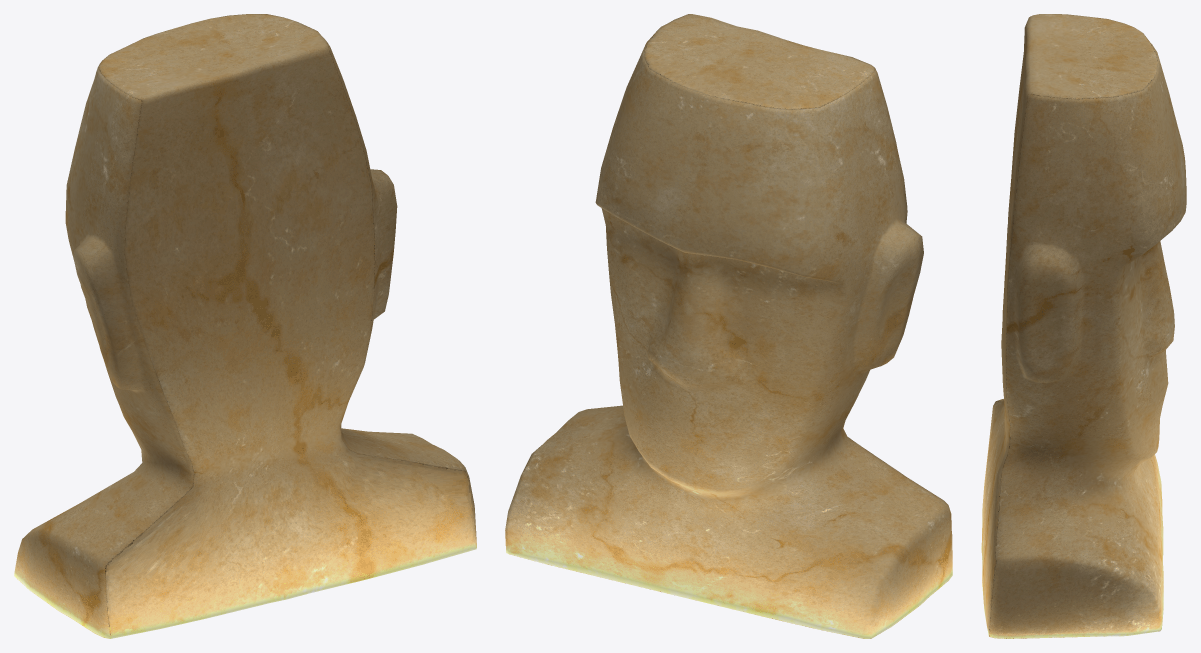
Rendered from Statute3 (3.7,  -6.29943, 1.2).glb.
3 renders of one model, left to right at view 1: azimuth 30°, elevation 25°; view 2: azimuth 150°, elevation 25°; view 3: azimuth 270°, elevation 25°, orthographic. The views are drawn at different scales.
Visible parts, largest first — view 1: Statue 2.001; view 2: Statue 2.001; view 3: Statue 2.001.
Part boxes in pixels (<box>): Statue 2.001: <box>14,14,476,638</box>; Statue 2.001: <box>505,14,952,638</box>; Statue 2.001: <box>981,14,1186,638</box>.
Size of the model in its own units: 0.4627 by 0.5994 by 0.2292.
1 material, 1 textured.
